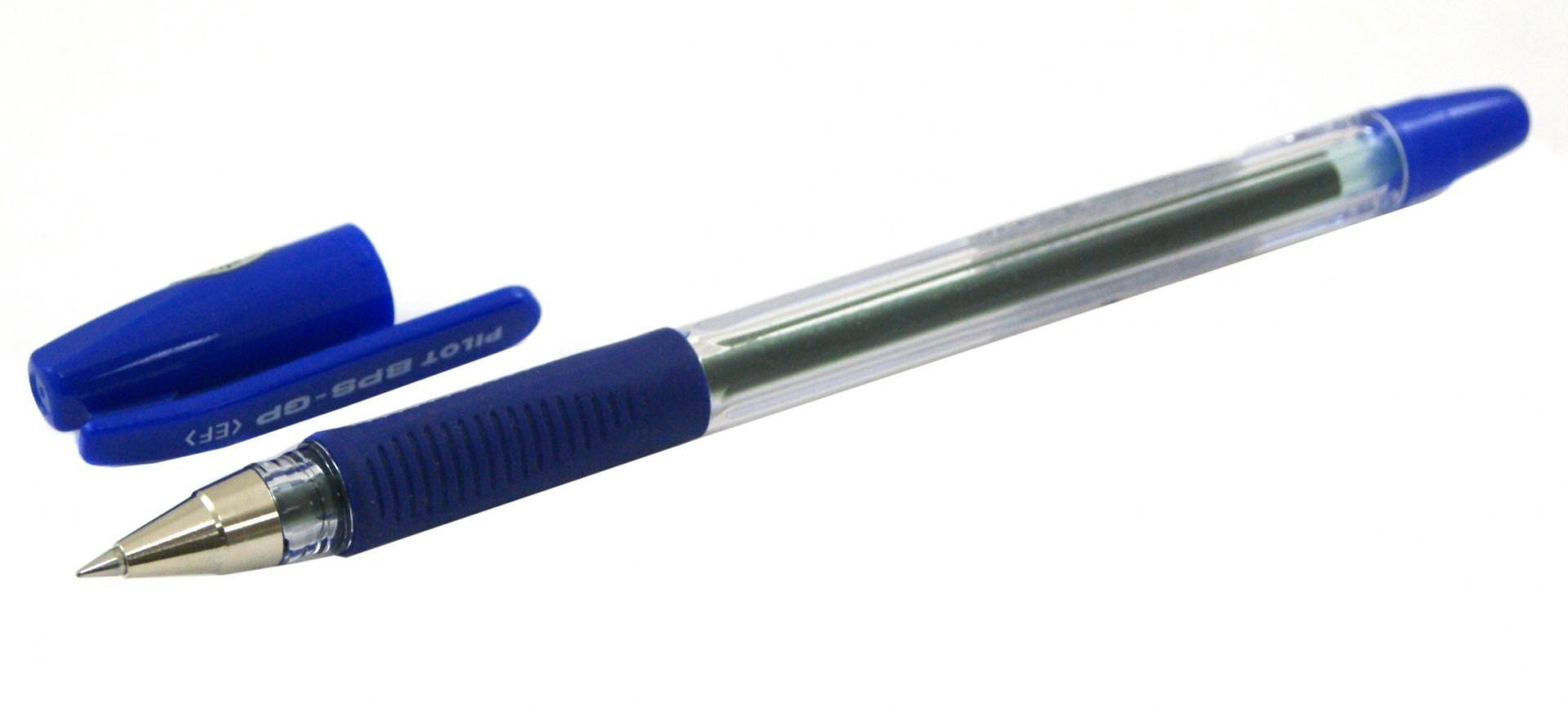pen-pencil: (77, 88, 1529, 577), (44, 290, 537, 483), (13, 228, 389, 434)
